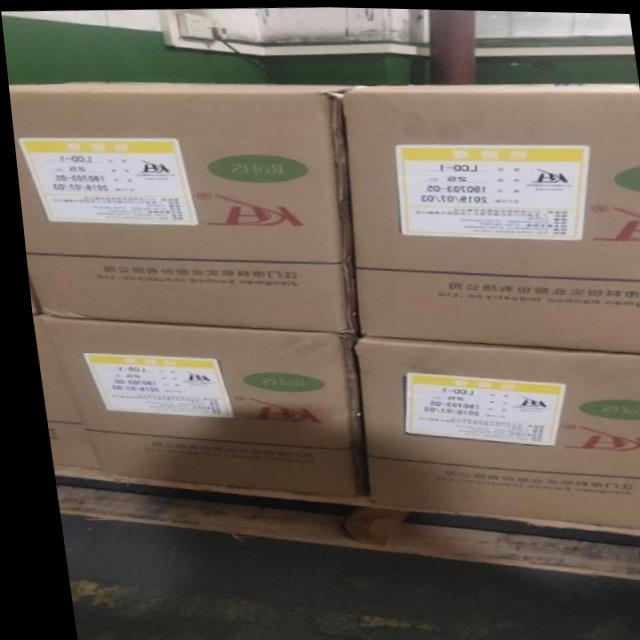box: (7, 78, 353, 332), (328, 83, 640, 350), (345, 331, 640, 529), (33, 313, 354, 492), (31, 315, 96, 475)
